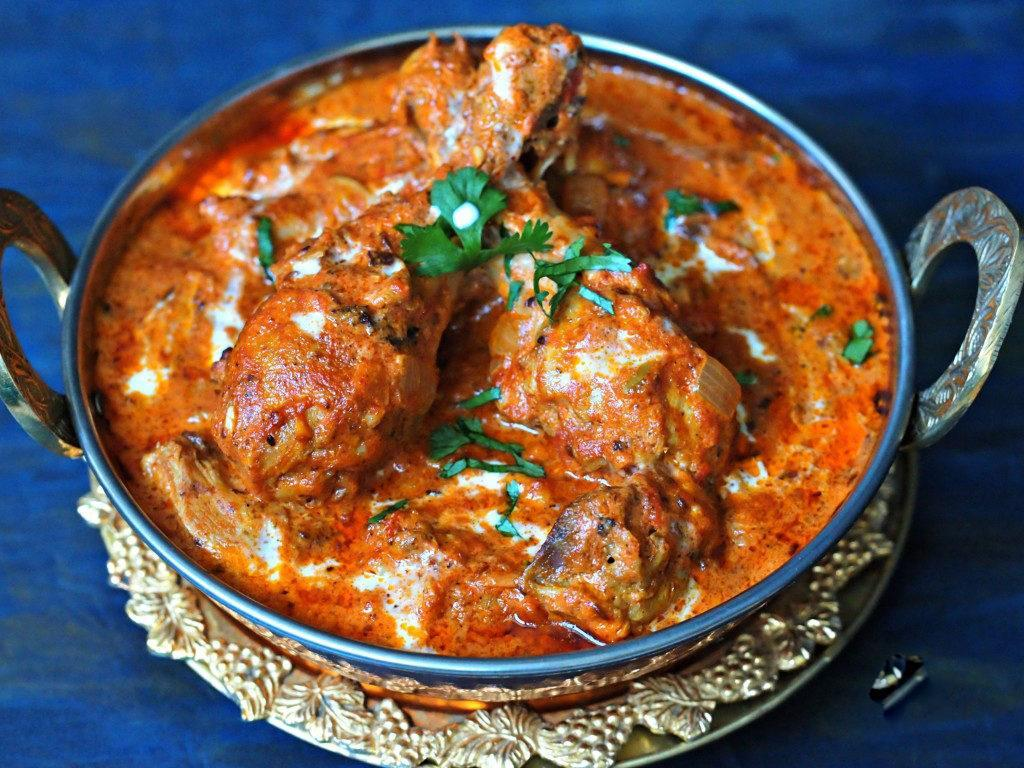chicken: (116, 79, 886, 632)
